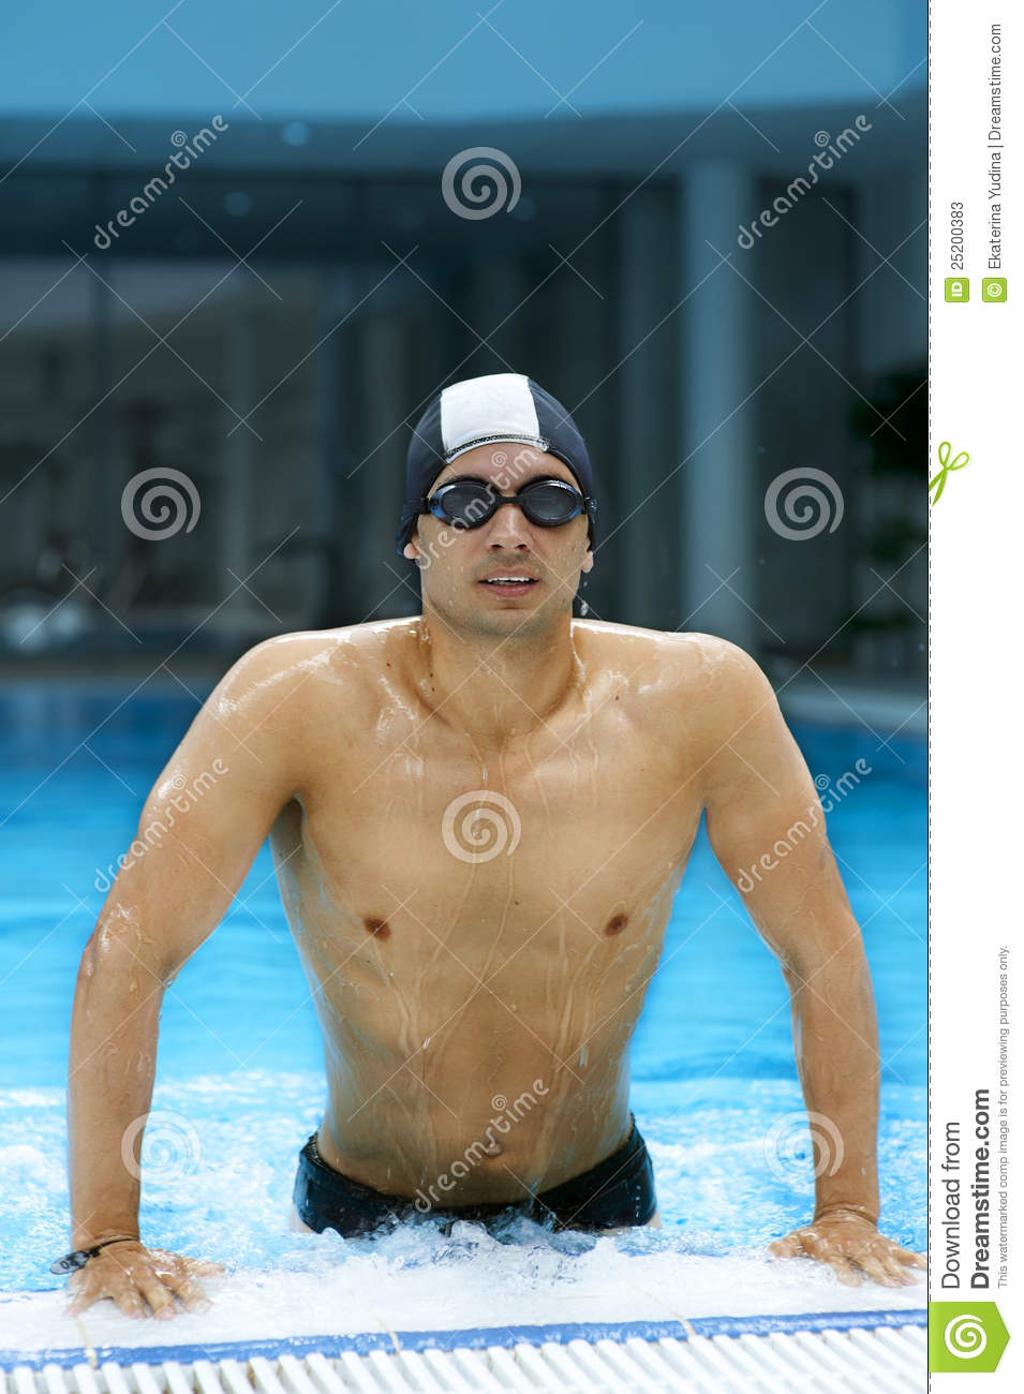face: (419, 441, 591, 640)
